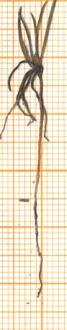flower: (0, 0, 65, 150)
root: (29, 198, 49, 298)
stem: (30, 80, 50, 199)
